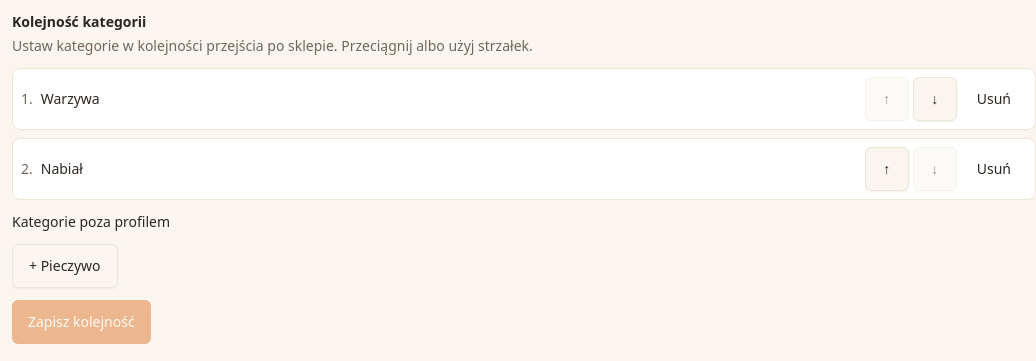
Scenario: StoreCategoryOrderEditor › strzałka w górę wraca do stanu wyjściowego, a zapis jest wtedy zablokowany
Click the button with test id "order-down-1". click: {"x": 935, "y": 99}
box: [913,77,957,121]
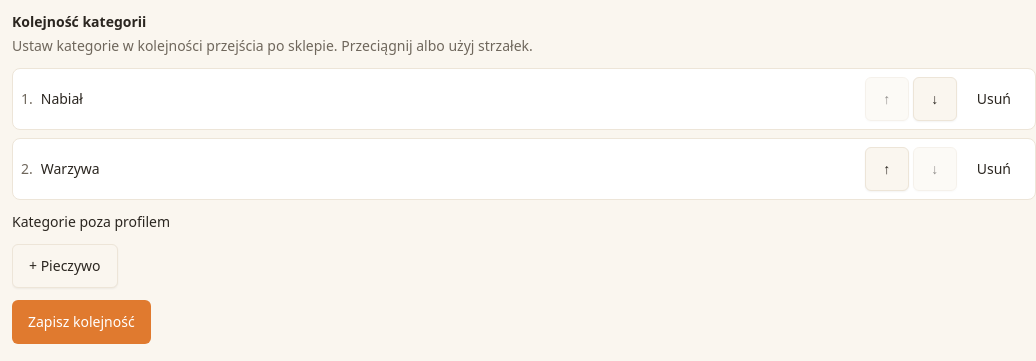
Click the button with test id "order-up-1". click: {"x": 887, "y": 169}
box: [865,147,909,191]
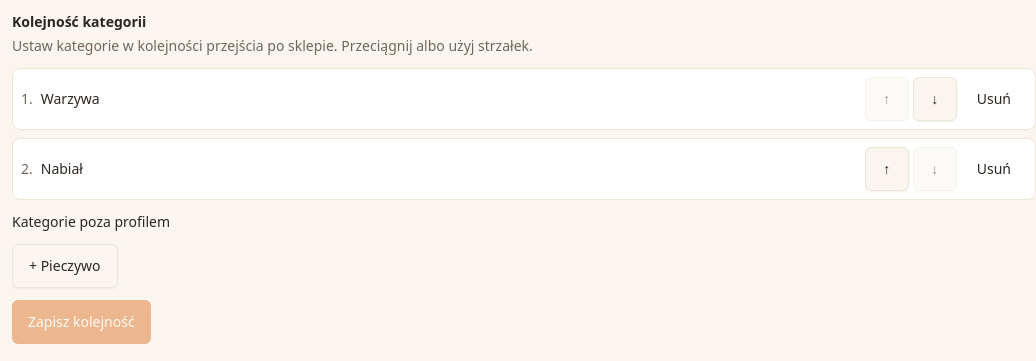
Now the button with test id "order-save" is disabled, box [12,300,151,344]
